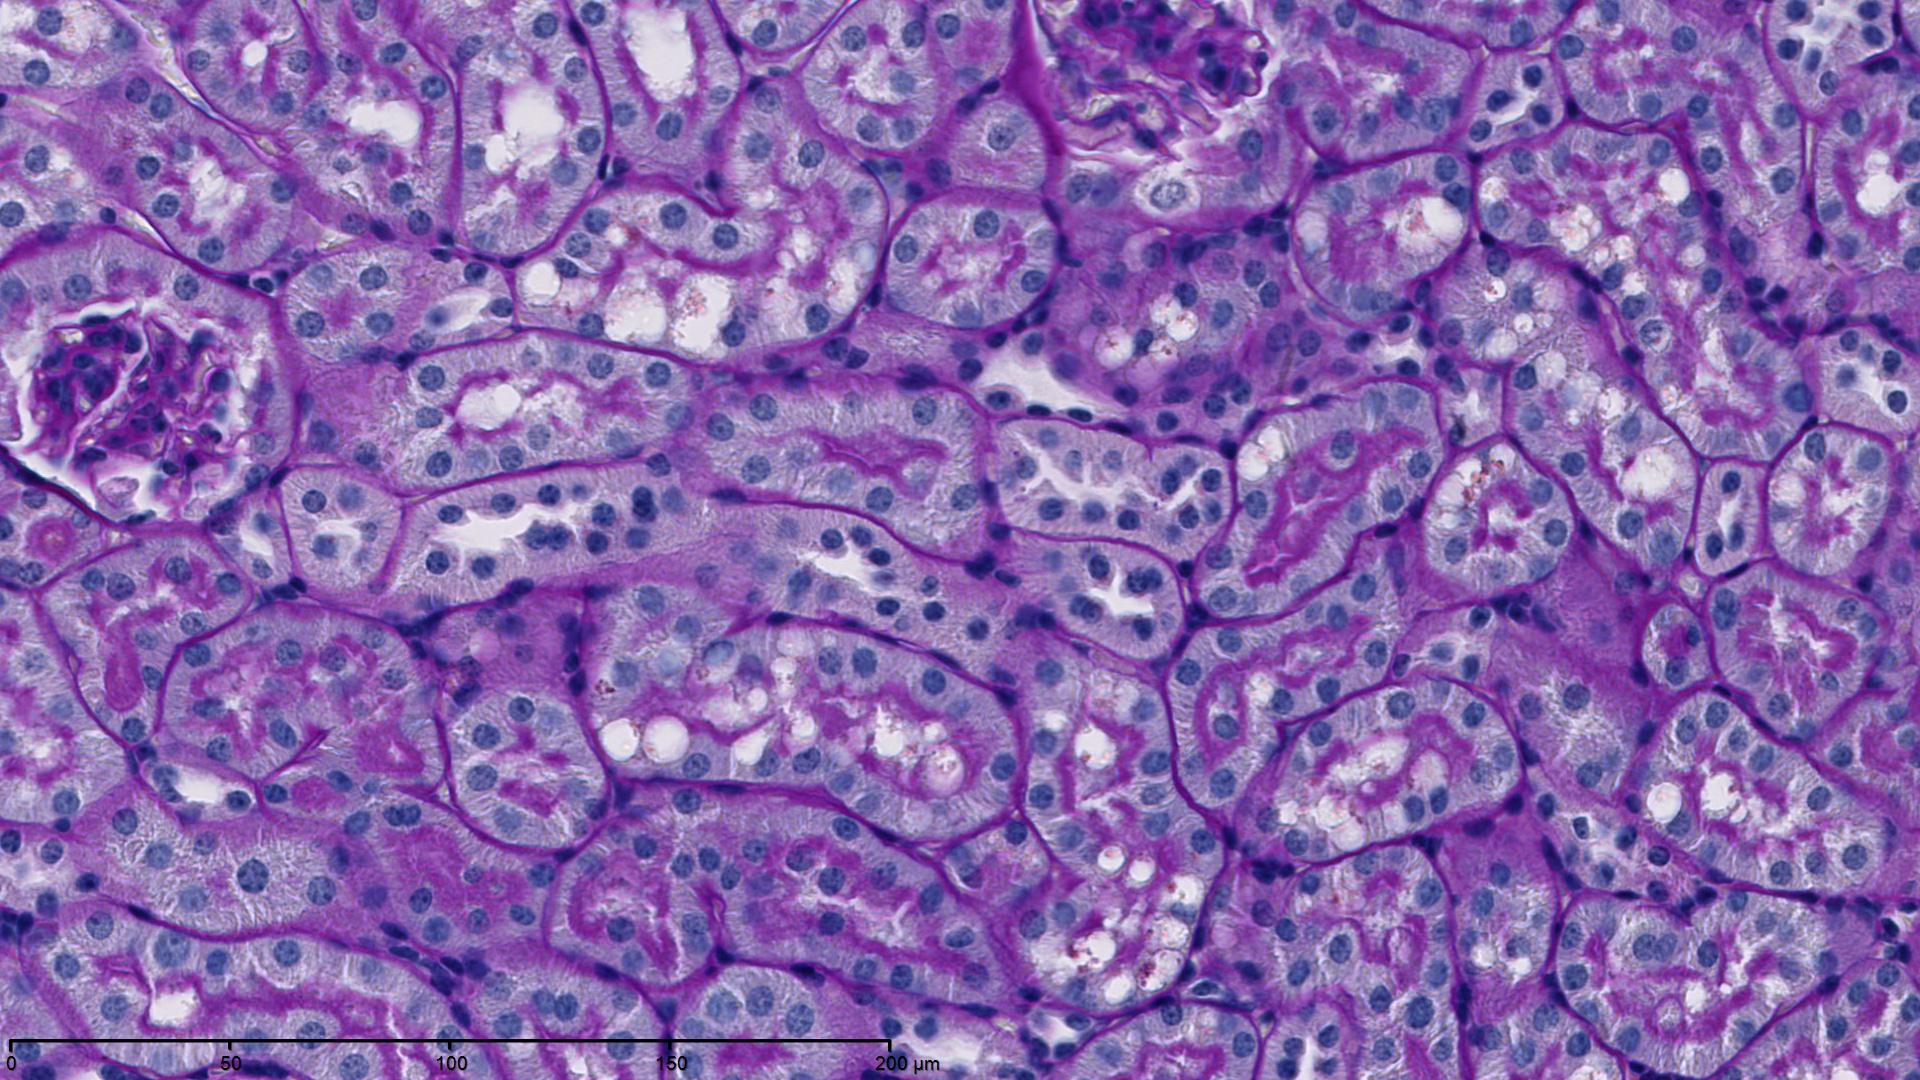Glomeruli: (16, 301, 289, 491), (1048, 1, 1275, 120)
